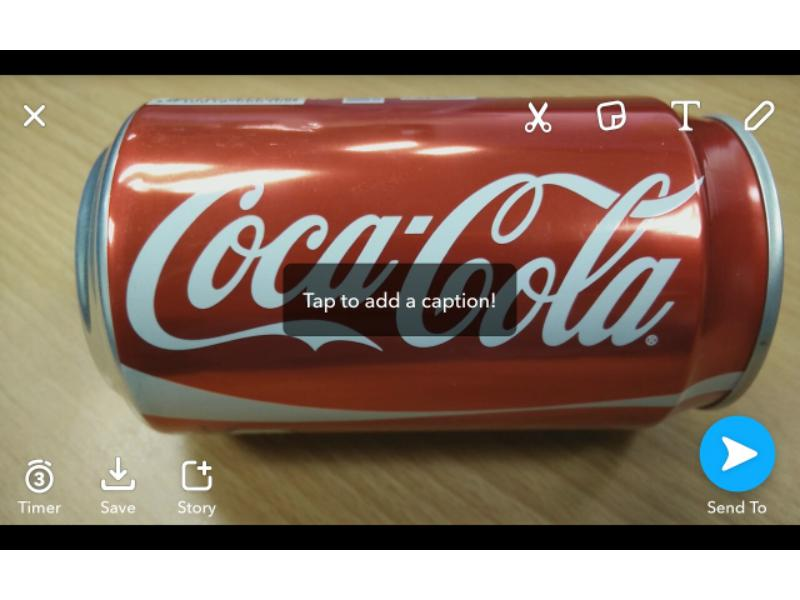can: (73, 93, 782, 431)
